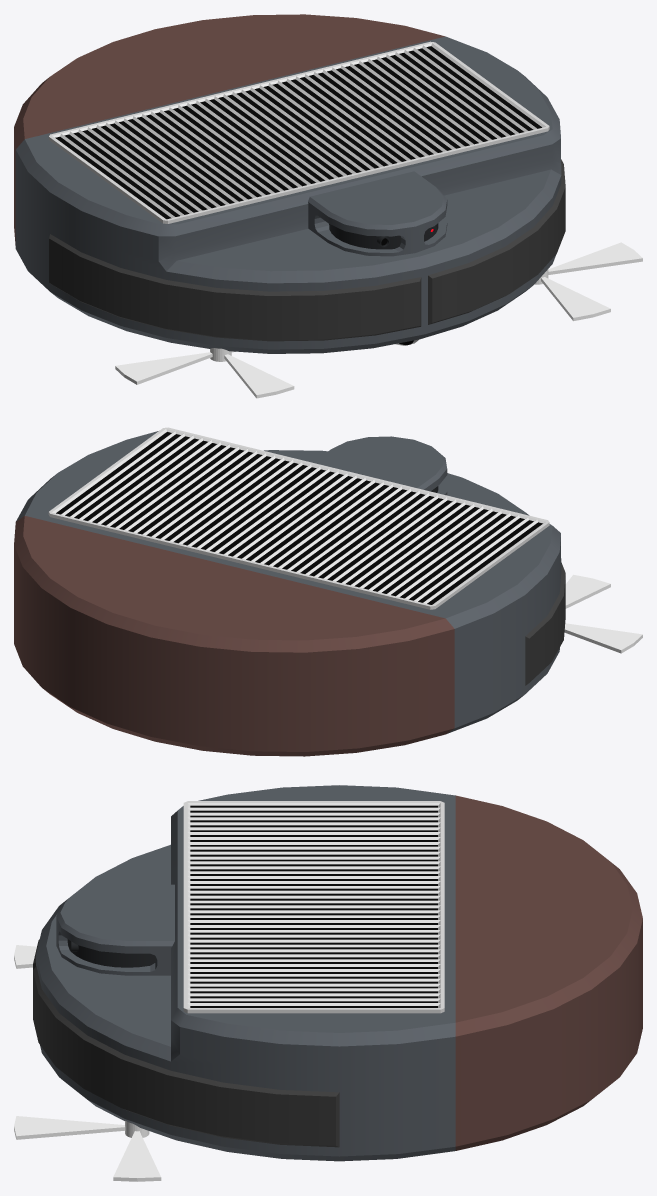
The picture shows the model from 3 angles, top to bottom: view 1: azimuth 30°, elevation 25°; view 2: azimuth 150°, elevation 25°; view 3: azimuth 270°, elevation 25°; orthographic projection. The views are drawn at different scales.
Visible parts, largest first — view 1: Body.1_4, Air-Filter.1_2, Body.002_3, Container.1_9, Body.2_5, Brush.2_7, Brush.1_6, Lidar.1_10; view 2: Container.1_9, Air-Filter.1_2, Body.1_4, Body.2_5, Body.002_3, Brush.2_7; view 3: Air-Filter.1_2, Container.1_9, Body.1_4, Body.002_3, Body.2_5, Brush.1_6, Lidar.1_10.
Part boxes in pixels (left/top/right/bottom): Body.1_4: left=15, top=36, right=561, bottom=353; Air-Filter.1_2: left=48, top=41, right=549, bottom=223; Body.002_3: left=49, top=159, right=565, bottom=341; Container.1_9: left=14, top=14, right=445, bottom=245; Body.2_5: left=308, top=171, right=447, bottom=256; Brush.2_7: left=115, top=348, right=294, bottom=398; Brush.1_6: left=534, top=242, right=642, bottom=321; Lidar.1_10: left=329, top=223, right=438, bottom=249; Container.1_9: left=14, top=516, right=454, bottom=756; Air-Filter.1_2: left=48, top=427, right=549, bottom=609; Body.1_4: left=16, top=431, right=561, bottom=733; Body.2_5: left=313, top=436, right=447, bottom=495; Body.002_3: left=525, top=562, right=565, bottom=685; Brush.2_7: left=564, top=574, right=642, bottom=653; Air-Filter.1_2: left=183, top=801, right=444, bottom=1013; Container.1_9: left=455, top=795, right=642, bottom=1150; Body.1_4: left=36, top=785, right=455, bottom=1161; Body.002_3: left=33, top=939, right=339, bottom=1147; Body.2_5: left=56, top=884, right=174, bottom=975; Brush.1_6: left=14, top=1116, right=161, bottom=1181; Lidar.1_10: left=67, top=939, right=156, bottom=967.
Size of the model in its own units: 0.3218 by 0.0837 by 0.3109.
